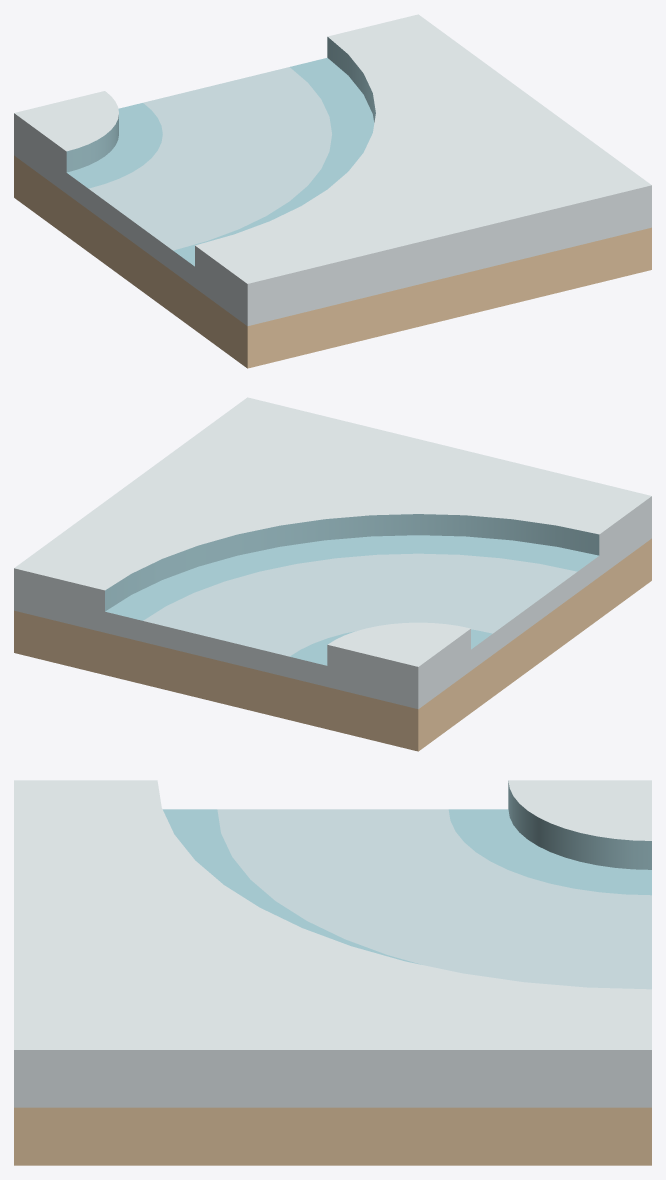
File: snow_tile_cornerRound.glb
The picture shows the model from 3 angles, top to bottom: view 1: azimuth 30°, elevation 25°; view 2: azimuth 150°, elevation 25°; view 3: azimuth 270°, elevation 25°; orthographic projection. The views are drawn at different scales.
Parts seen in each view (by area): view 1: snow_tile_cornerRound; view 2: snow_tile_cornerRound; view 3: snow_tile_cornerRound.
Part boxes in pixels (<box>): snow_tile_cornerRound: <box>14,14,651,368</box>; snow_tile_cornerRound: <box>14,397,651,751</box>; snow_tile_cornerRound: <box>14,780,651,1165</box>.
Size of the model in its own units: 1 by 0.2 by 1.
